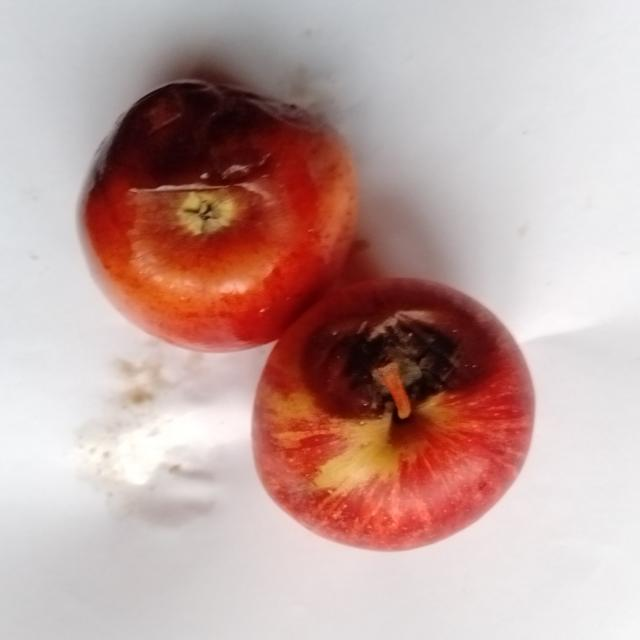apple: (253, 279, 533, 549), (81, 81, 356, 350)
